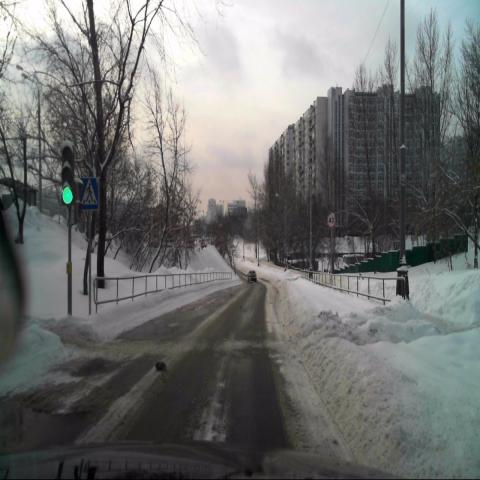3_24: (327, 212, 336, 229)
5_19_1: (79, 177, 99, 210)
